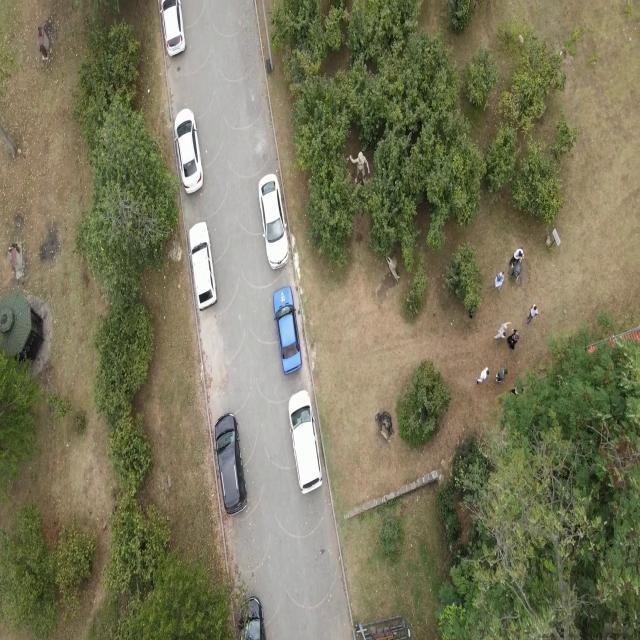people: (493, 322, 509, 340), (509, 248, 523, 268), (476, 368, 489, 386), (527, 303, 537, 326), (508, 329, 520, 348), (495, 369, 509, 383), (495, 272, 504, 292)
